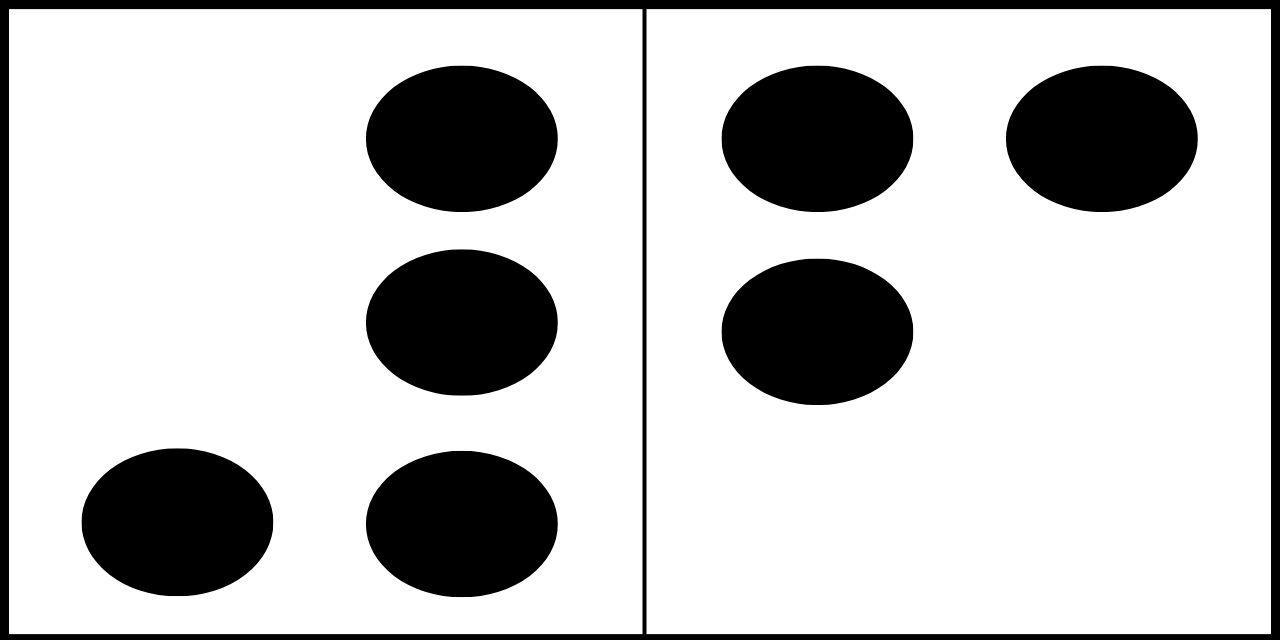digit_6: (722, 65, 1198, 605)
number_sign: (81, 65, 557, 599)
